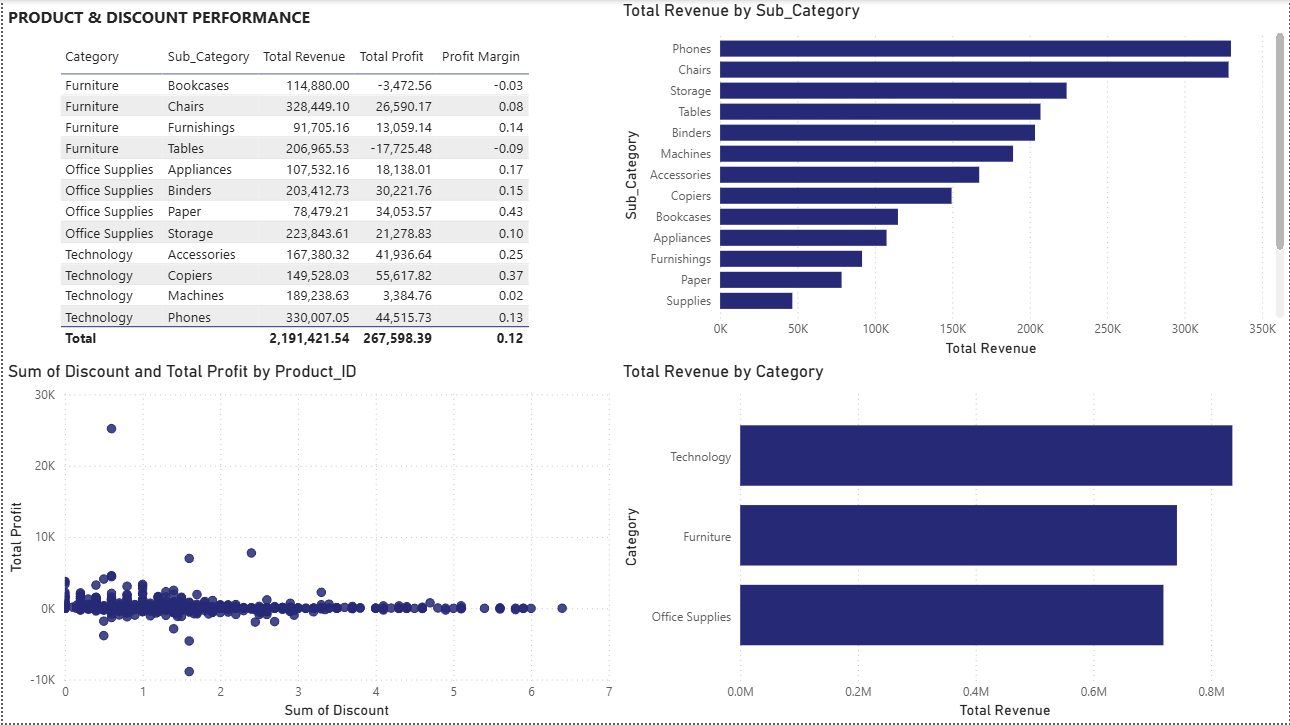

The dashboard page shown, as its layout file describes it:
{"tool":"powerbi","page":{"name":"Product & Discount Performance","canvas":[1280,720],"ordinal":3},"visuals":[{"type":"clusteredBarChart","fields":{"Y":["superstore_orders.Total Revenue"],"Category":["superstore_orders.Category"]},"box":[612,359.5,668,360.7],"z":0},{"type":"clusteredBarChart","fields":{"Y":["superstore_orders.Total Revenue"],"Category":["superstore_orders.Sub_Category"]},"box":[612,0,668,359.5],"z":1000},{"type":"scatterChart","fields":{"X":["Sum(superstore_orders.Discount)"],"Y":["superstore_orders.Total Profit"],"Category":["superstore_orders.Product_ID"]},"box":[0,359.5,612,360.7],"z":2000},{"type":"tableEx","fields":{"Values":["superstore_orders.Category","superstore_orders.Sub_Category","superstore_orders.Total Revenue","superstore_orders.Total Profit","superstore_orders.Profit Margin"]},"box":[51,39.8,487.6,319.7],"z":3000},{"type":"textbox","box":[0,0,347.1,39.8],"z":4000}]}

Visuals, with their boxes in screenshot pixels (x1, y1, x2, y2), scaled from the page's 1280x720 canvas onto the 1290x725 screenshot:
clusteredBarChart - superstore_orders.Total Revenue x superstore_orders.Category: detection(617, 362, 1289, 724)
clusteredBarChart - superstore_orders.Total Revenue x superstore_orders.Sub_Category: detection(617, 0, 1289, 362)
scatterChart - Sum(superstore_orders.Discount) x superstore_orders.Total Profit: detection(0, 362, 617, 724)
tableEx - superstore_orders.Category x superstore_orders.Sub_Category: detection(51, 40, 543, 362)
textbox: detection(0, 0, 350, 40)
